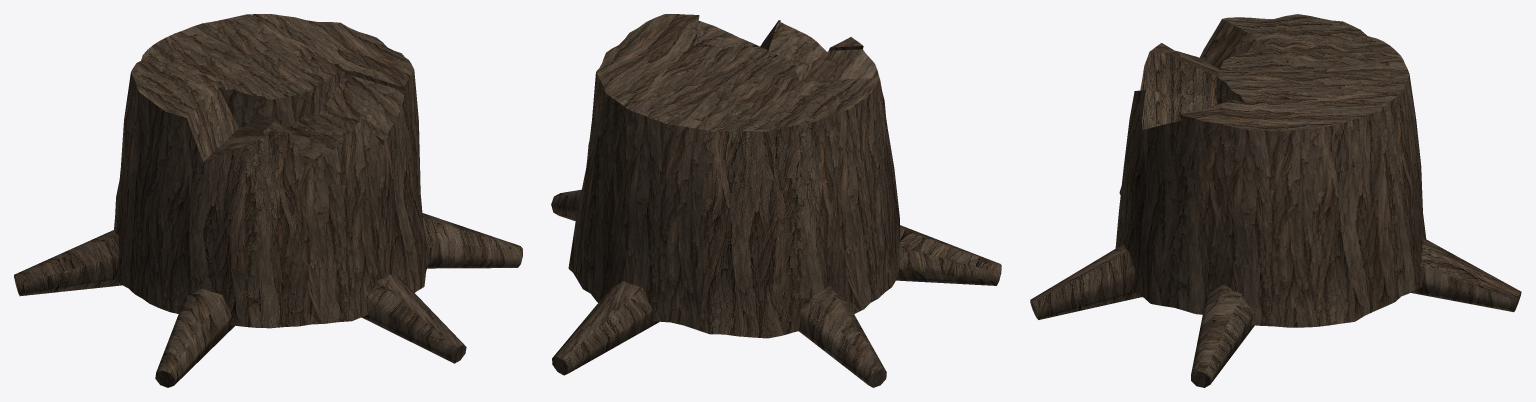
File: axe-cut-stump-v01-photo.glb
3 renders of one model, left to right at view 1: azimuth 30°, elevation 25°; view 2: azimuth 150°, elevation 25°; view 3: azimuth 270°, elevation 25°, orthographic. The views are drawn at different scales.
Parts seen in each view (by area): view 1: axe-cut-stump; view 2: axe-cut-stump; view 3: axe-cut-stump.
Boxes of the visible parts, x1,y1,x2,y2 form: axe-cut-stump: [14, 14, 522, 387]; axe-cut-stump: [551, 14, 1001, 387]; axe-cut-stump: [1030, 14, 1521, 387].
Size of the model in its own units: 1.72 by 0.8834 by 1.79.
1 material, 1 textured.
